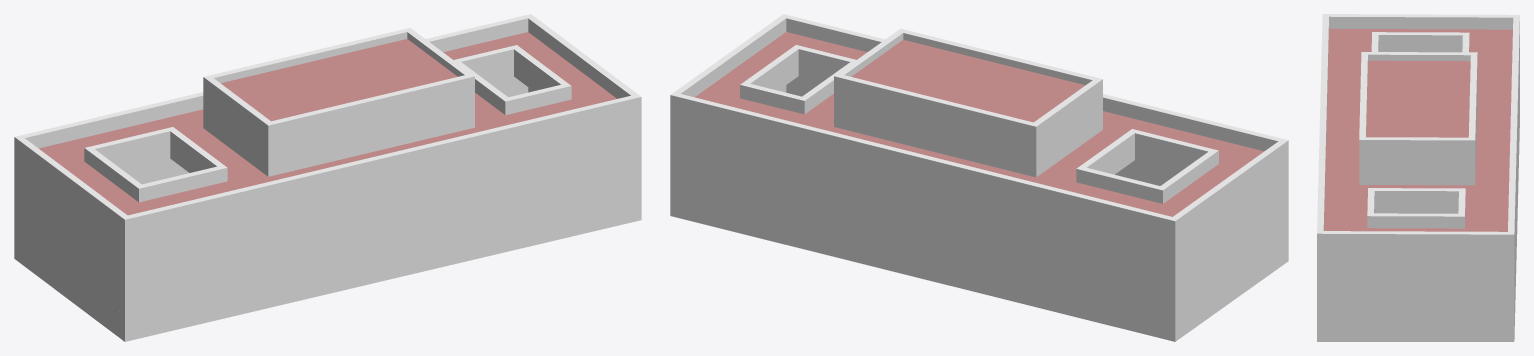
Rendered from LOD_Block_1_31.glb.
3 views of the same model, side by side, from view 1: azimuth 30°, elevation 25°; view 2: azimuth 150°, elevation 25°; view 3: azimuth 270°, elevation 25° (orthographic). The views are drawn at different scales.
Visible parts, largest first — view 1: mesh_CityEngineMaterial_384; view 2: mesh_CityEngineMaterial_384; view 3: mesh_CityEngineMaterial_384.
Boxes of the visible parts, <box> form: mesh_CityEngineMaterial_384: <box>14,14,641,341</box>; mesh_CityEngineMaterial_384: <box>670,14,1288,341</box>; mesh_CityEngineMaterial_384: <box>1317,14,1519,341</box>.
Bounding box in the file's own units: 39.5 × 11.78 × 15.35.
